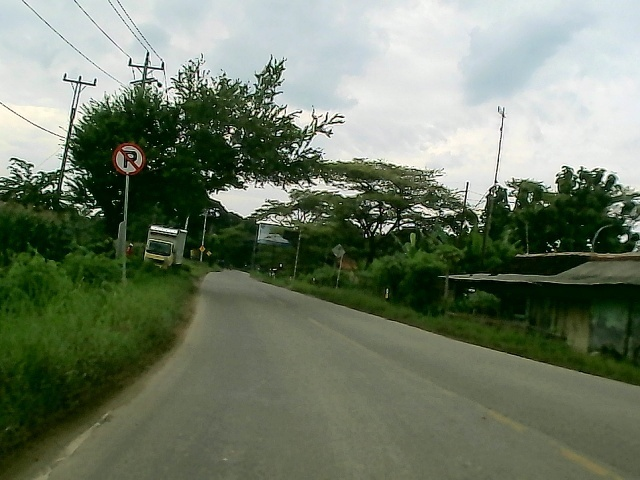Dilarang parkir: (109, 141, 147, 179)
